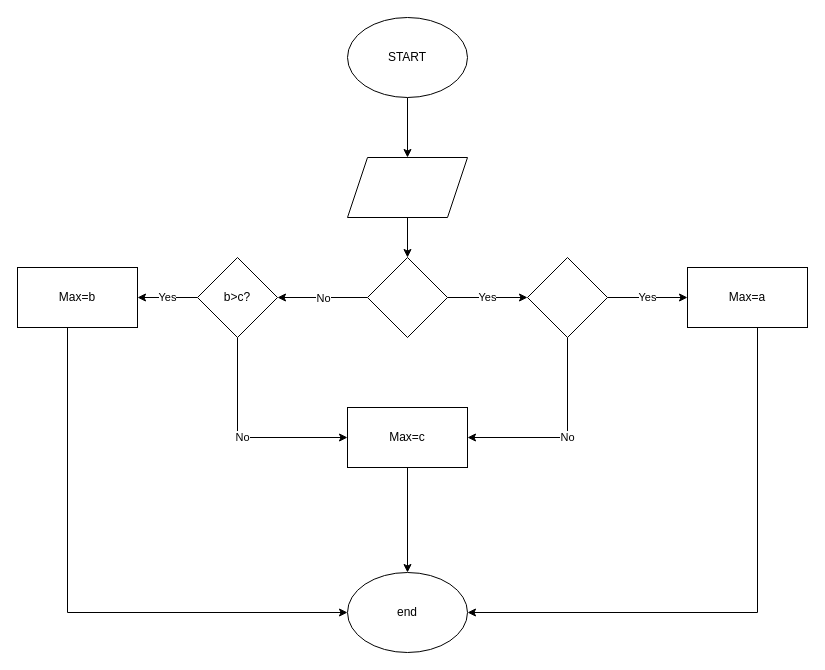
This 825x670 diagram has some shape labels left out. Each missing label, with the centre of its shape:
"a>b?" belongs at [407,297].
"a>c?" belongs at [567,297].
"nhập a,b,c" belongs at [407,187].
